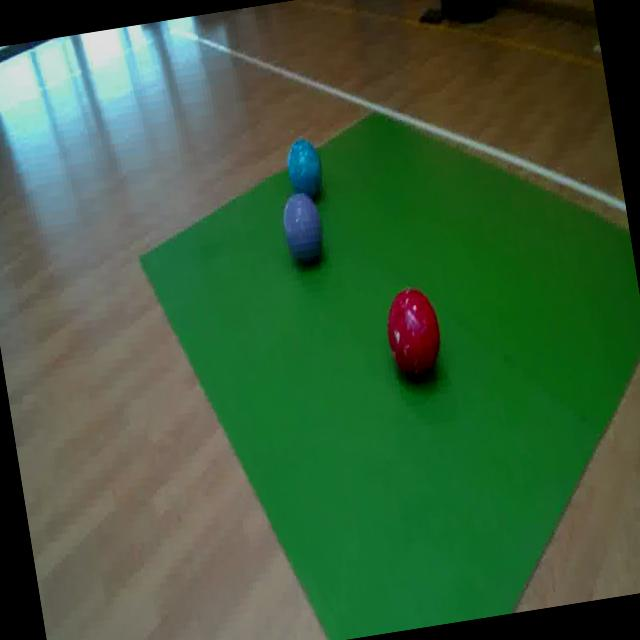blue_ball: (285, 136, 327, 202)
purple_ball: (280, 191, 329, 270)
red_ball: (380, 282, 450, 392)
